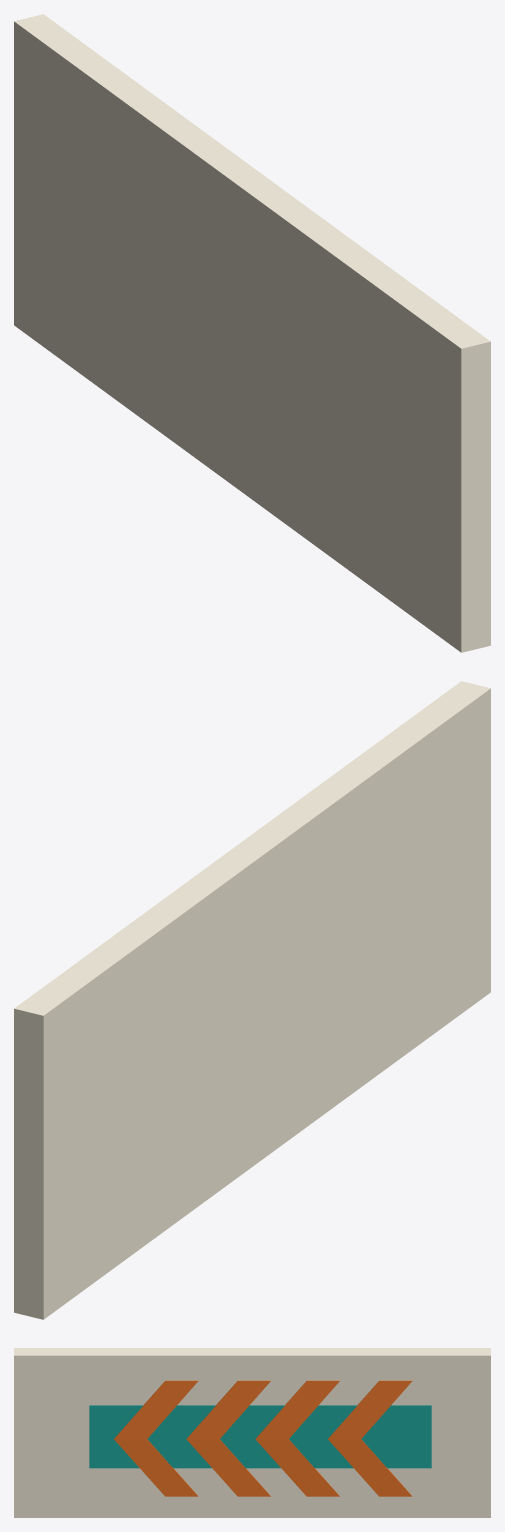
Rendered from RunningWallR.fbx.
The picture shows the model from 3 angles, top to bottom: view 1: azimuth 30°, elevation 25°; view 2: azimuth 150°, elevation 25°; view 3: azimuth 270°, elevation 25°; orthographic projection. The views are drawn at different scales.
Visible parts, largest first — view 1: Wall.001; view 2: Wall.001; view 3: Wall.001, arrows.001, board+.001.
Part boxes in pixels (box(x1,y1,x2,y2)): Wall.001: box(14, 14, 490, 652); Wall.001: box(14, 681, 490, 1319); Wall.001: box(14, 1348, 490, 1517); arrows.001: box(114, 1380, 412, 1496); board+.001: box(89, 1405, 431, 1468).
Size of the model in its own units: 97.74 by 879 by 2346.
